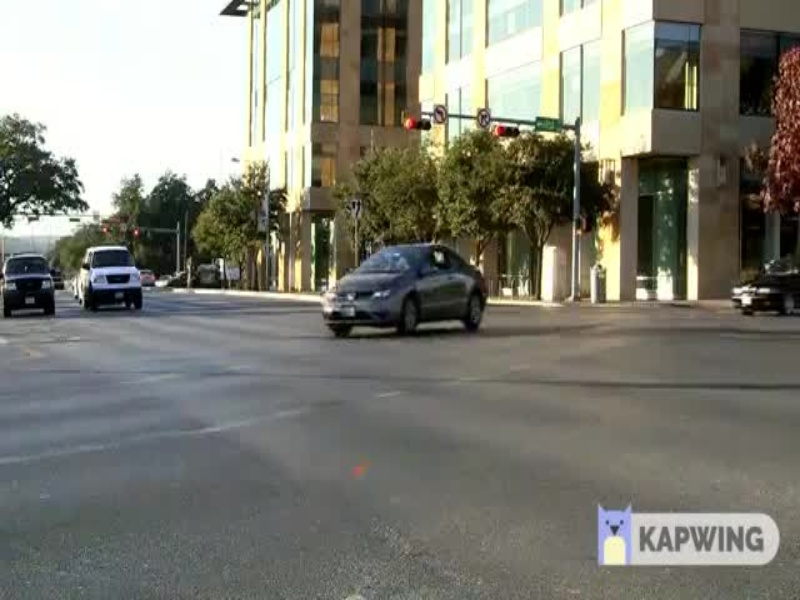car: (306, 242, 492, 335), (724, 252, 800, 324)
suv: (78, 245, 154, 322), (1, 253, 64, 316)
